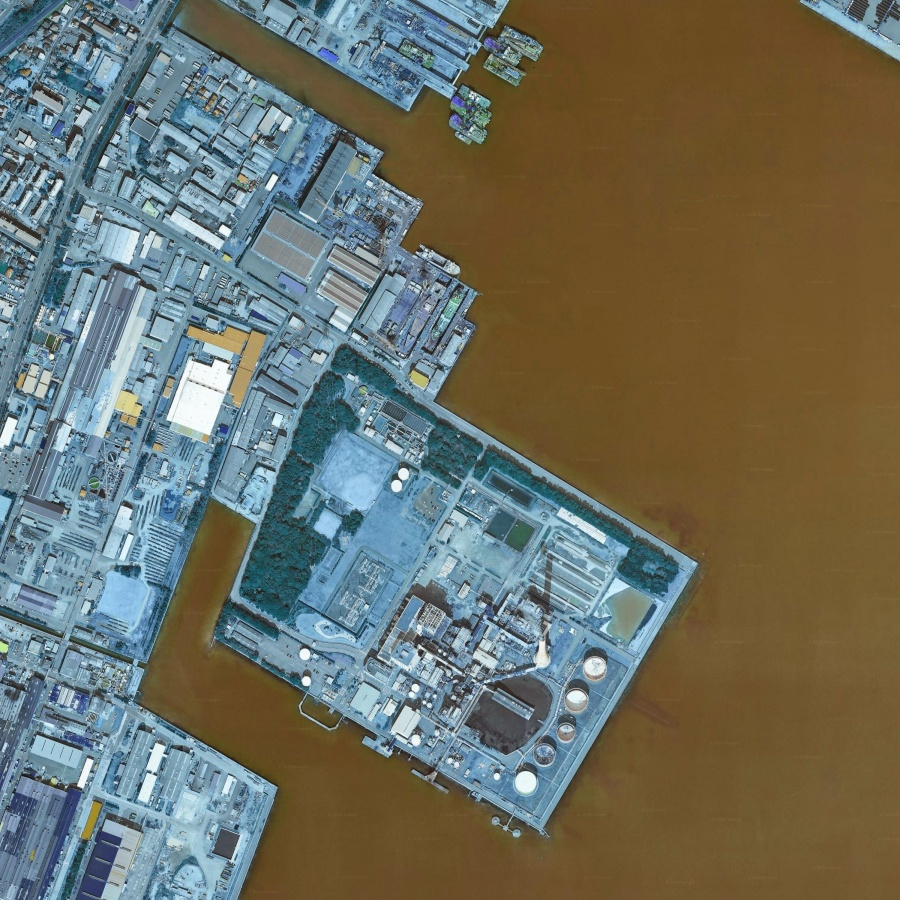PowerPlant: (293, 508, 662, 828)
